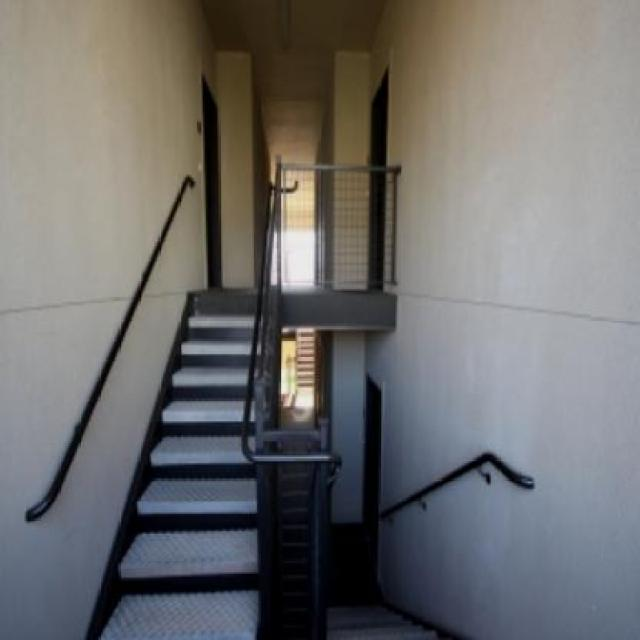stair: (92, 180, 494, 638)
